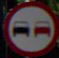No overtake: (2, 2, 55, 51)
